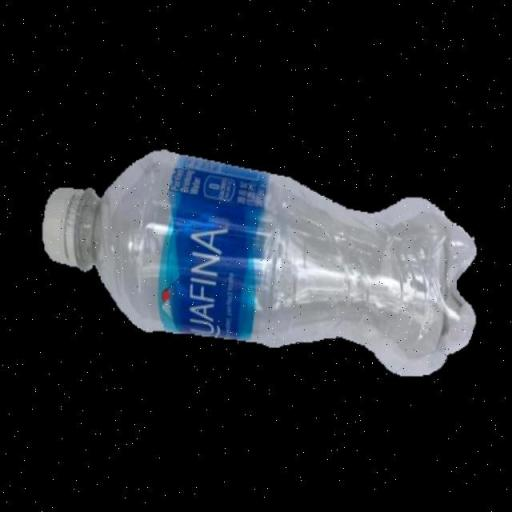plastic: (40, 144, 484, 386)
